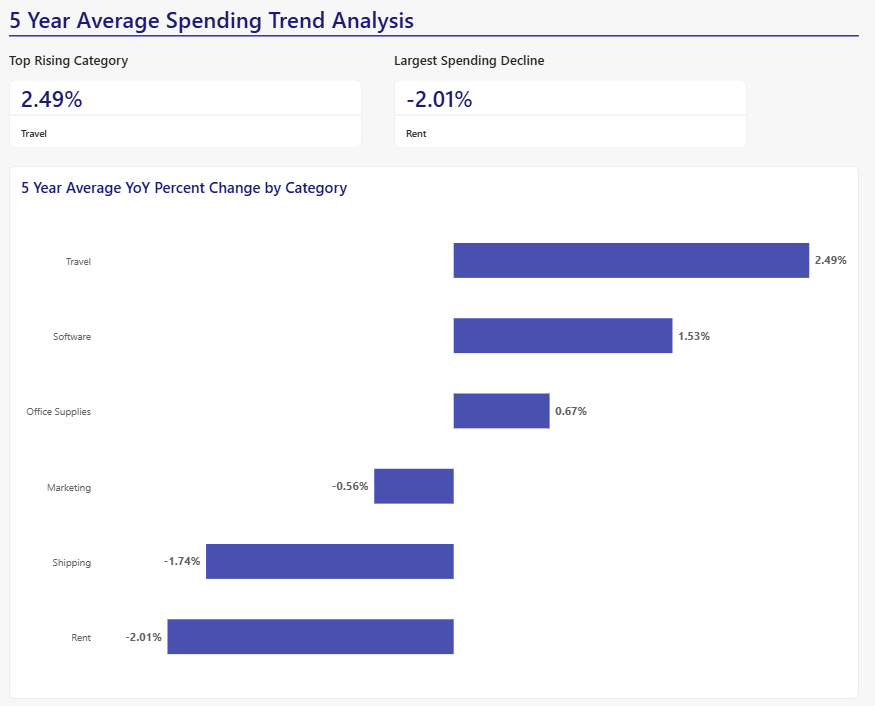

What the dashboard file says about the page in this screenshot:
{"tool":"powerbi","page":{"name":"Page 1","canvas":[1920,1080],"ordinal":0},"visuals":[{"type":"clusteredBarChart","title":"5 Year Average YoY Percent Change by Category","fields":{"Category":["v_category_spending_trends.category"],"Y":["Sum(v_category_spending_trends.average_pct_change)"]},"box":[410.6,301,1214.2,761.3],"z":0},{"type":"cardVisual","title":"Top Rising Category","fields":{"Data":["Sum(v_category_spending_trends.average_pct_change)"]},"box":[410.6,137.4,504.1,138.8],"z":1},{"type":"cardVisual","title":"Largest Spending Decline","fields":{"Data":["Sum(v_category_spending_trends.average_pct_change)"]},"box":[960,137.4,504.1,138.8],"z":2},{"type":"textbox","title":"5 Year Average Spending Trend Analysis","box":[410,68.6,986.3,48.1],"z":3},{"type":"shape","box":[410,94.8,1213.9,42.3],"z":4}]}

Visuals, with their boxes on the page's 1920x1080 design canvas (x1, y1, x2, y2). These are canvas units, not pixel positions in the 875x706 screenshot, which may show the page scaled, cropped or inside an application window:
"5 Year Average YoY Percent Change by Category" clusteredBarChart: detection(411, 301, 1625, 1062)
"Top Rising Category" cardVisual: detection(411, 137, 915, 276)
"Largest Spending Decline" cardVisual: detection(960, 137, 1464, 276)
"5 Year Average Spending Trend Analysis" textbox: detection(410, 69, 1396, 117)
shape: detection(410, 95, 1624, 137)
